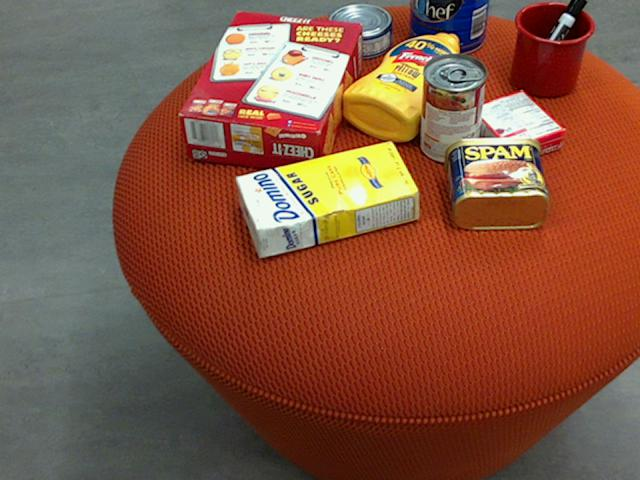cracker_box: (176, 10, 362, 174)
gelatin_box: (469, 91, 566, 164)
large_marker: (520, 0, 586, 85)
master_chef_can: (408, 0, 489, 53)
mug: (510, 0, 594, 95)
mustard_bottle: (341, 32, 461, 140)
potted_meat_can: (442, 135, 548, 229)
sugar_box: (233, 139, 420, 258)
tomato_soup_can: (420, 52, 485, 162)
tuna_fish_can: (326, 2, 391, 56)
